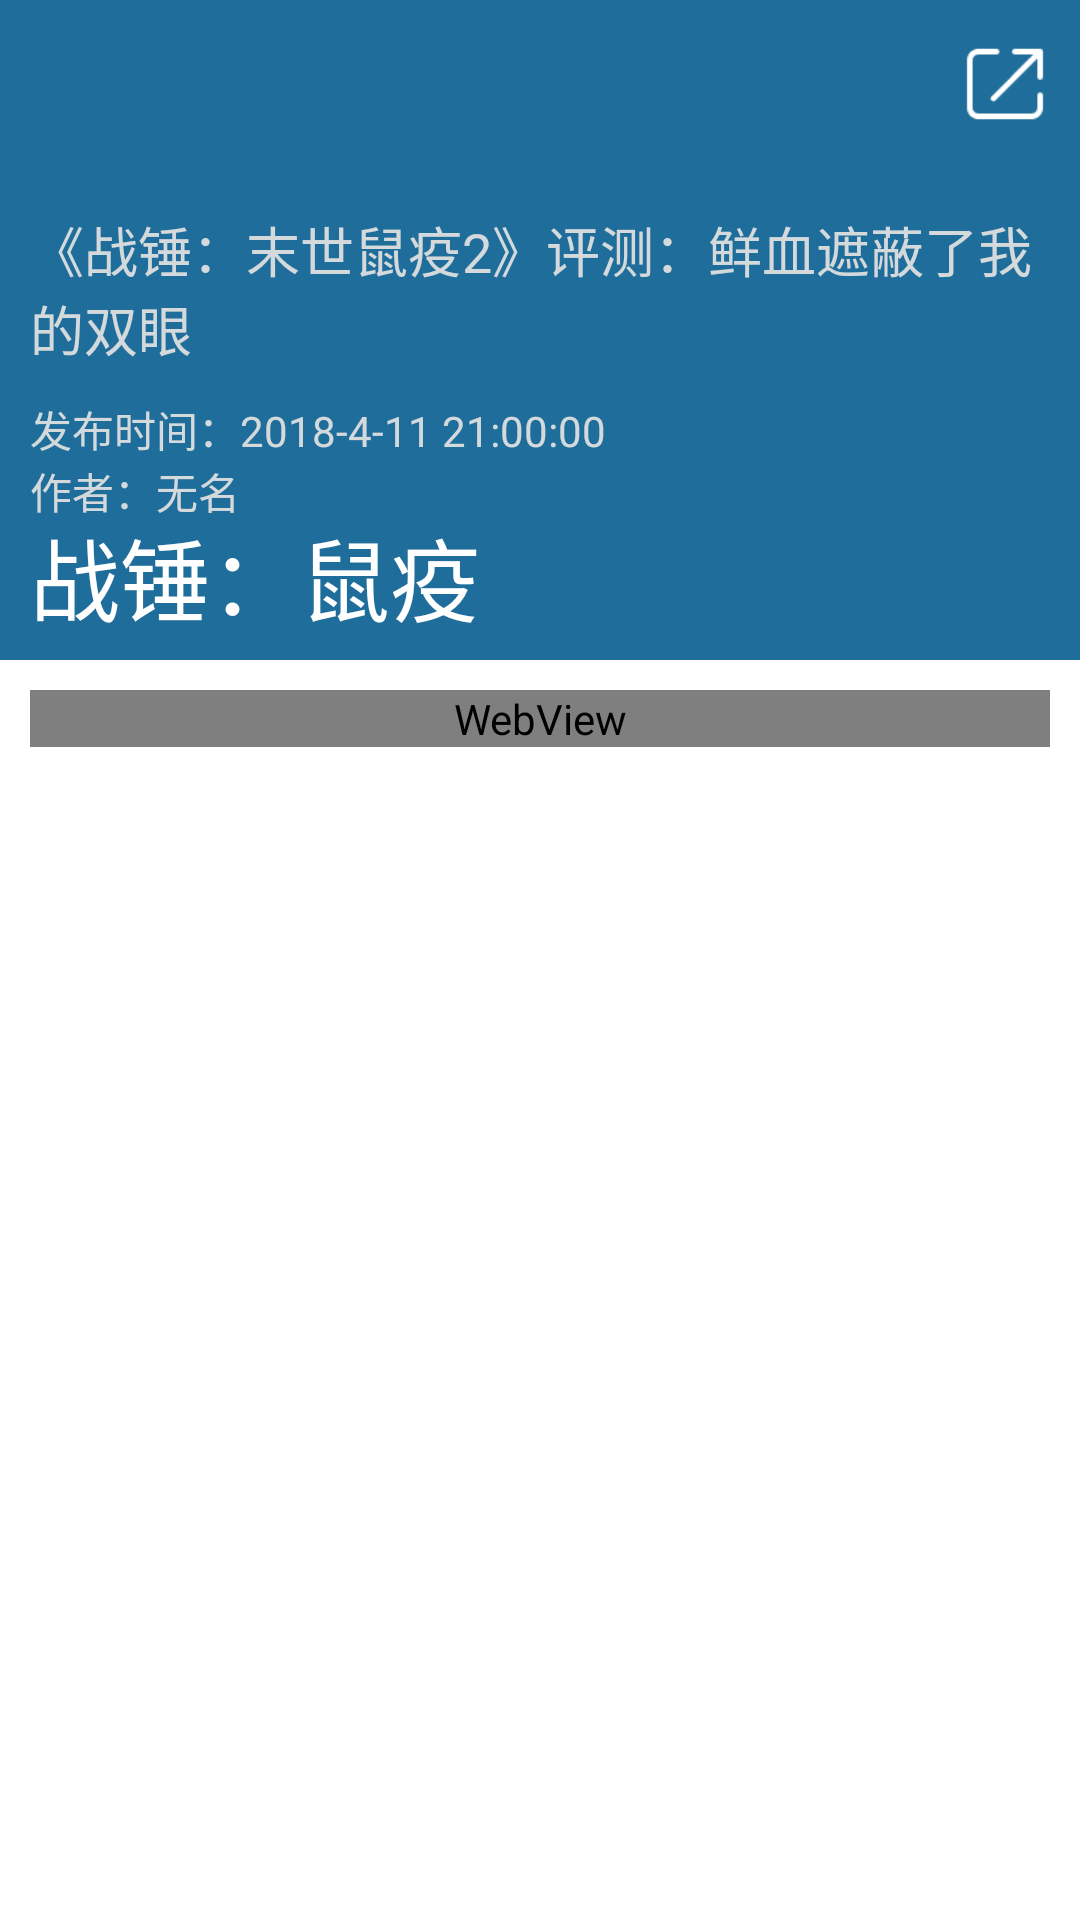

Where icons sit on this 1080*1920 app screen, as region(x1, y1, x2, y2):
share: region(966, 48, 1044, 120)
